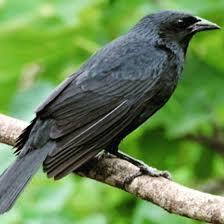grauna: (0, 10, 220, 215)
